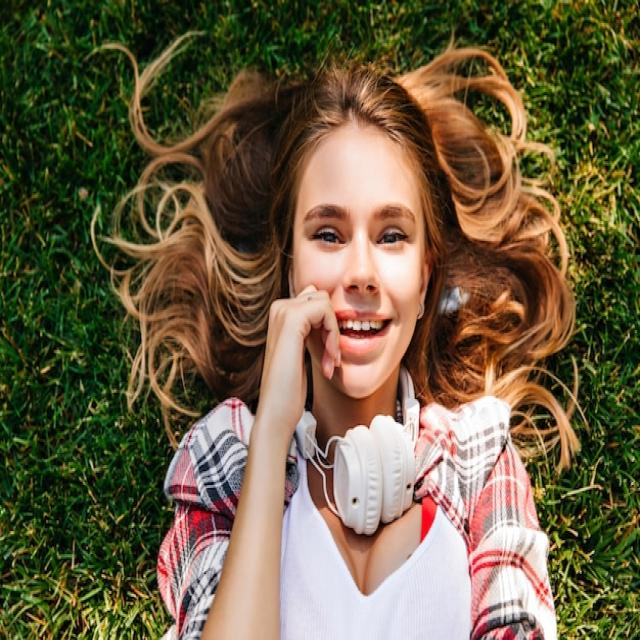Headphone: (294, 366, 420, 538)
